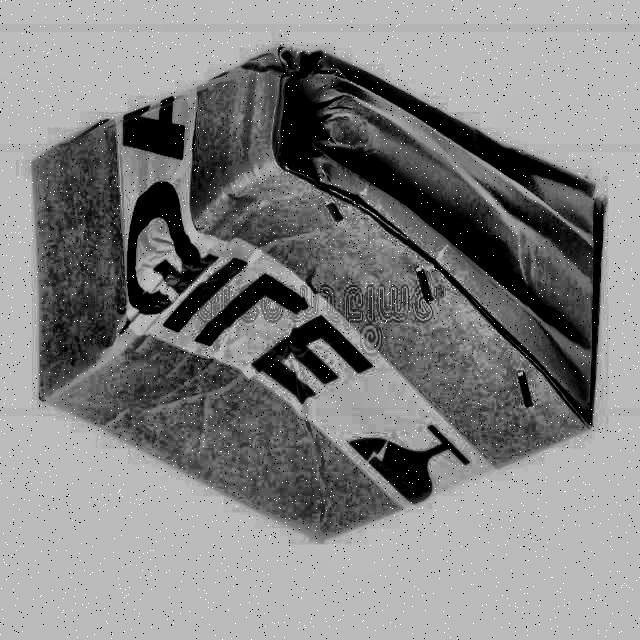box: (28, 43, 610, 547)
hole: (263, 46, 337, 184)
